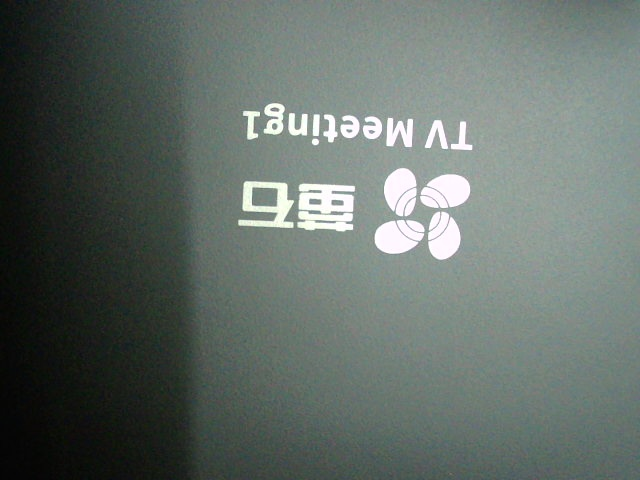BA_Yingshi: (232, 107, 476, 264)
